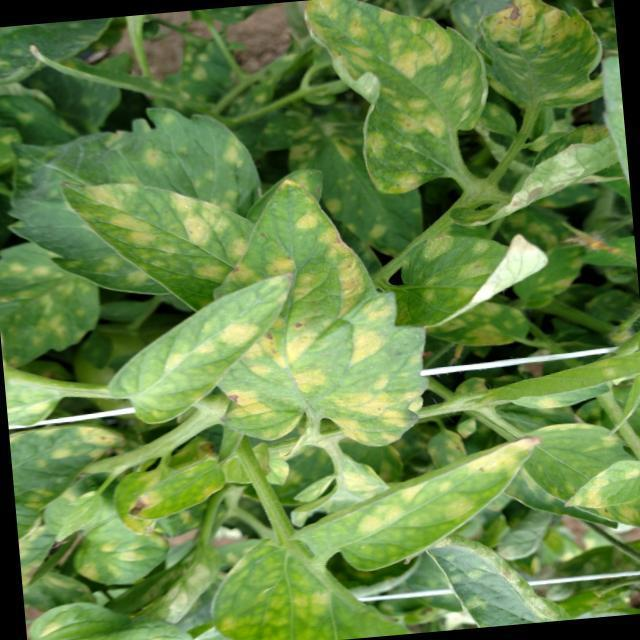Mosaic Virus: (211, 179, 399, 432), (58, 101, 270, 302), (94, 264, 307, 426), (315, 0, 486, 195), (305, 438, 553, 568)
